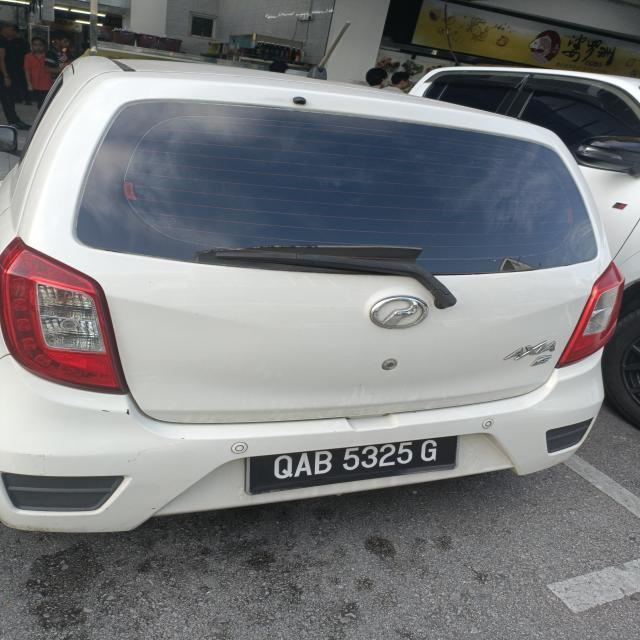PeroduaAxia: (0, 54, 628, 533)
